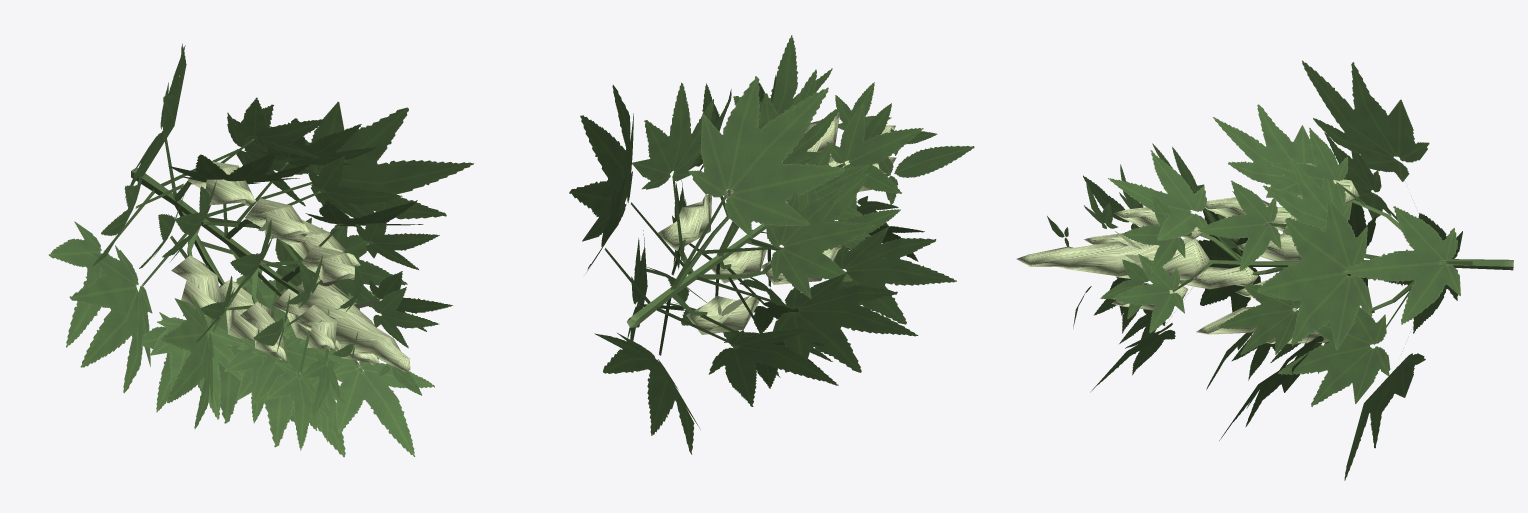
The model's file is p_frosty_hybrid_flowering_c0_cards.obj.
The picture shows the model from 3 angles, left to right: view 1: azimuth 30°, elevation 25°; view 2: azimuth 150°, elevation 25°; view 3: azimuth 270°, elevation 25°; orthographic projection. The views are drawn at different scales.
Size of the model in its own units: 1.55 by 1.63 by 1.64.
1 material, 1 textured.
